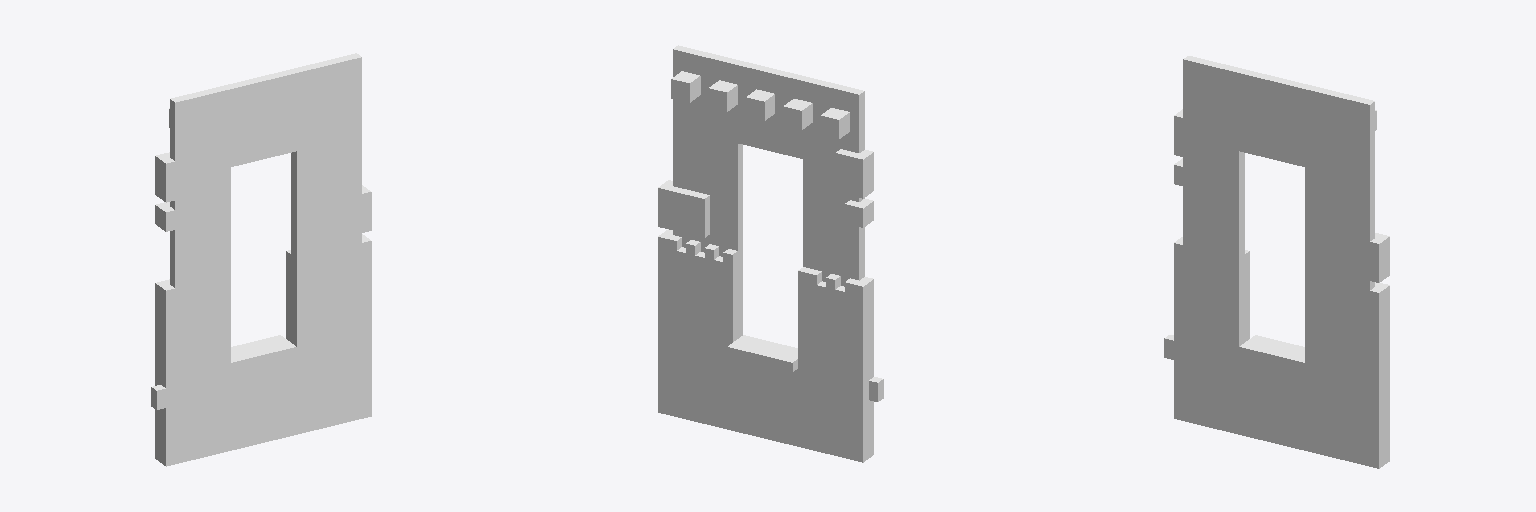
The model's file is SmallBuilding03-0.obj.
3 views of the same model, side by side, from view 1: azimuth 30°, elevation 25°; view 2: azimuth 150°, elevation 25°; view 3: azimuth 330°, elevation 25° (orthographic).
Parts seen in each view (by area): view 1: object 1; view 2: object 1; view 3: object 1.
Boxes of the visible parts, <box> form: object 1: <box>151,53,371,466</box>; object 1: <box>658,45,883,462</box>; object 1: <box>1164,56,1389,468</box>.
Size of the model in its own units: 2.3 by 3.7 by 0.3.